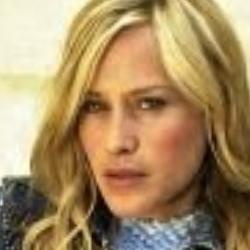face: (21, 1, 250, 246)
